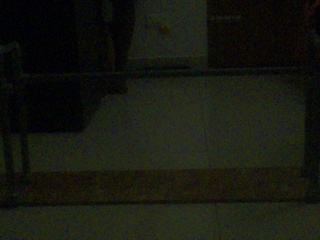ball: (158, 24, 169, 36)
